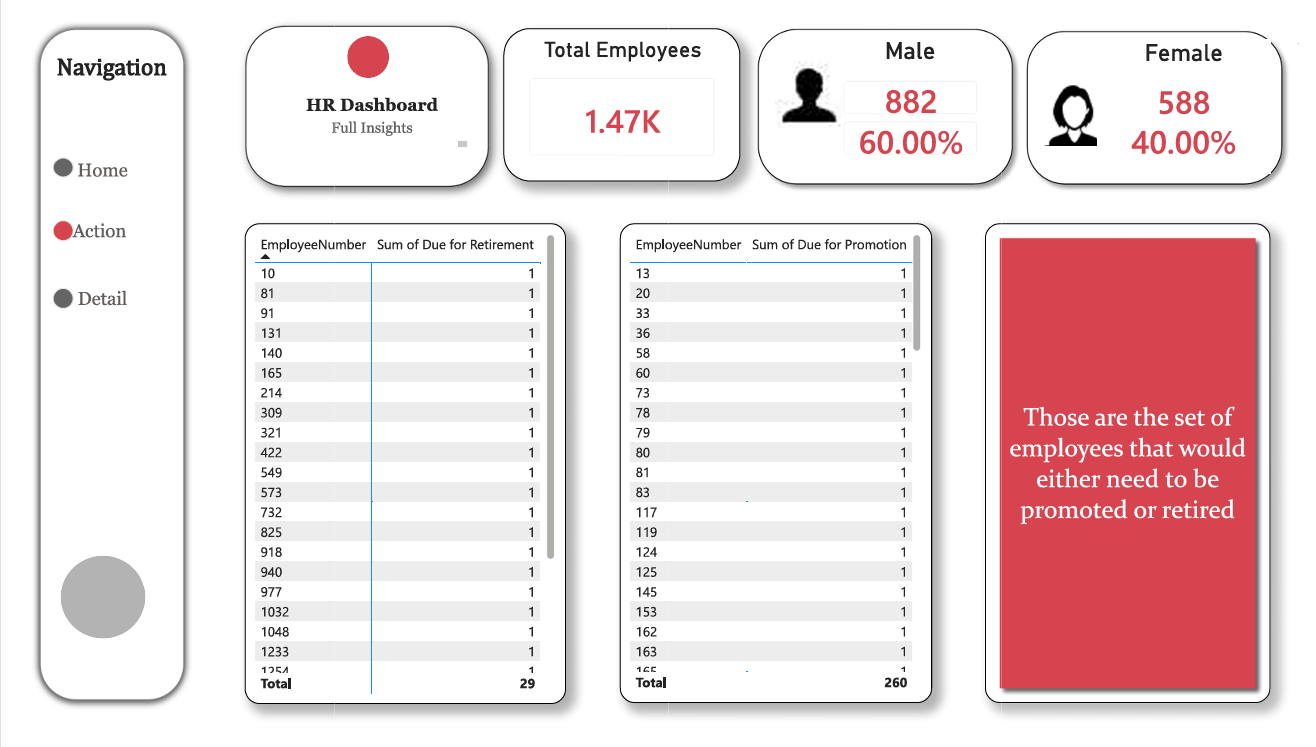

What the dashboard file says about the page in this screenshot:
{"tool":"powerbi","page":{"name":"Action","canvas":[1280,720],"ordinal":1},"visuals":[{"type":"group","id":"g1","title":"Group 2","box":[207,1,273.9,190.8],"z":0},{"type":"shape","box":[998.2,12.3,275.1,172.4],"z":0,"group":"g4"},{"type":"cardVisual","title":"Male","fields":{"Data":["in.Male","in.Male %"]},"box":[806.3,26.7,167.5,135.7],"z":0,"group":"g6"},{"type":"shape","box":[207,1,273.9,190.8],"z":1000,"group":"g5"},{"type":"shape","box":[6.1,9.8,162.6,692.1],"z":1000,"group":"g2"},{"type":"cardVisual","title":"Total Employees","fields":{"Data":["CountNonNull(in.EmployeeCount)"]},"box":[480.6,18.3,238.5,154.1],"z":1000},{"type":"image","box":[1023.1,68.6,64.5,72.7],"z":1000,"group":"g7"},{"type":"group","id":"g2","title":"Group 1","box":[6.1,9.8,162.6,692.1],"z":2000},{"type":"shape","box":[323.7,26.2,42.3,42],"z":2000,"group":"g5"},{"type":"textbox","title":"Navigation","box":[26.7,44,124.7,77],"z":2000,"group":"g2"},{"type":"cardVisual","title":"Female","fields":{"Data":["in.Female","in.Female %"]},"box":[1078,29.5,173.6,134.5],"z":3000,"group":"g7"},{"type":"textbox","title":"HR Dashboard","box":[246.1,84.1,204.2,59.9],"z":3000,"group":"g5"},{"type":"actionButton","box":[28.3,139.4,100.2,40.7],"z":3000,"group":"g2"},{"type":"pivotTable","fields":{"Values":["Sum(in.Due for Retirement)"],"Rows":["in.EmployeeNumber"]},"box":[221.3,214,322.8,483],"z":3000},{"type":"shape","box":[728,10,273.9,173.6],"z":4000,"group":"g3"},{"type":"shape","box":[28.3,147.8,20.6,19.7],"z":4000,"group":"g2"},{"type":"pivotTable","fields":{"Rows":["in.EmployeeNumber"],"Values":["Sum(in.Due for Promotion)"]},"box":[598,214,314.3,481.8],"z":4000},{"type":"actionButton","box":[16.1,201.2,118,40.7],"z":5000,"group":"g2"},{"type":"shape","box":[964.8,214,287.4,481.8],"z":5000},{"type":"image","box":[755.1,33.8,67.2,101.5],"z":5003,"group":"g6"},{"type":"group","id":"g3","title":"Group 4","box":[728,10,273.9,173.6],"z":6000},{"type":"actionButton","box":[28.3,268.7,100.2,40.7],"z":6000,"group":"g2"},{"type":"group","id":"g4","title":"Group 6","box":[998.2,12.3,275.1,172.4],"z":7000},{"type":"shape","box":[28.3,211.1,20.6,21.1],"z":7000,"group":"g2"},{"type":"group","id":"g5","title":"Group 7","box":[207,1,273.9,190.8],"z":7001,"group":"g1"},{"type":"group","id":"g6","title":"Group 3","box":[755.1,26.7,218.7,135.7],"z":7001,"group":"g3"},{"type":"group","id":"g7","title":"Group 5","box":[1023.1,29.5,228.6,134.5],"z":7003,"group":"g4"},{"type":"shape","box":[28.3,278.5,20.6,21.1],"z":8000,"group":"g2"},{"type":"shape","box":[36.5,548.2,85.1,82.9],"z":9000,"group":"g2"}]}

Visuals, with their boxes in screenshot pixels (x1, y1, x2, y2), scaled from the page's 1280x720 canvas onto the 1316x747 screenshot:
"Group 2" group: x1=213, y1=1, x2=494, y2=199
shape: x1=1026, y1=13, x2=1309, y2=192
"Male" cardVisual: x1=829, y1=28, x2=1001, y2=168
shape: x1=213, y1=1, x2=494, y2=199
shape: x1=6, y1=10, x2=173, y2=728
"Total Employees" cardVisual: x1=494, y1=19, x2=739, y2=179
image: x1=1052, y1=71, x2=1118, y2=147
"Group 1" group: x1=6, y1=10, x2=173, y2=728
shape: x1=333, y1=27, x2=376, y2=71
"Navigation" textbox: x1=27, y1=46, x2=156, y2=126
"Female" cardVisual: x1=1108, y1=31, x2=1287, y2=170
"HR Dashboard" textbox: x1=253, y1=87, x2=463, y2=149
actionButton: x1=29, y1=145, x2=132, y2=187
pivotTable - Sum(in.Due for Retirement) x in.EmployeeNumber: x1=228, y1=222, x2=559, y2=723
shape: x1=748, y1=10, x2=1030, y2=190
shape: x1=29, y1=153, x2=50, y2=174
pivotTable - in.EmployeeNumber x Sum(in.Due for Promotion): x1=615, y1=222, x2=938, y2=722
actionButton: x1=17, y1=209, x2=138, y2=251
shape: x1=992, y1=222, x2=1287, y2=722
image: x1=776, y1=35, x2=845, y2=140
"Group 4" group: x1=748, y1=10, x2=1030, y2=190
actionButton: x1=29, y1=279, x2=132, y2=321
"Group 6" group: x1=1026, y1=13, x2=1309, y2=192
shape: x1=29, y1=219, x2=50, y2=241
"Group 7" group: x1=213, y1=1, x2=494, y2=199
"Group 3" group: x1=776, y1=28, x2=1001, y2=168
"Group 5" group: x1=1052, y1=31, x2=1287, y2=170
shape: x1=29, y1=289, x2=50, y2=311
shape: x1=38, y1=569, x2=125, y2=655
